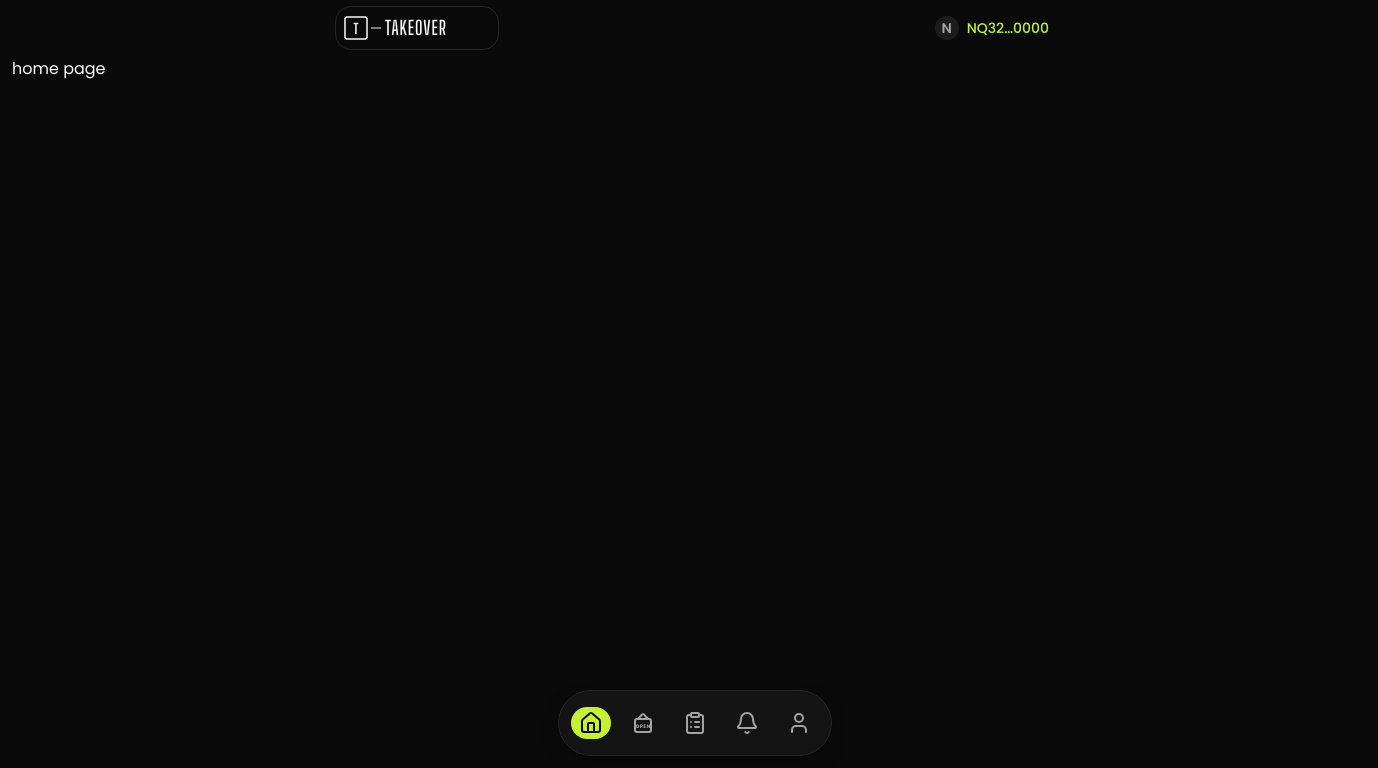
Test: pill bottom nav › tapping an item navigates
Click the link named "Claims" at (695, 723), box [683, 711, 707, 735]
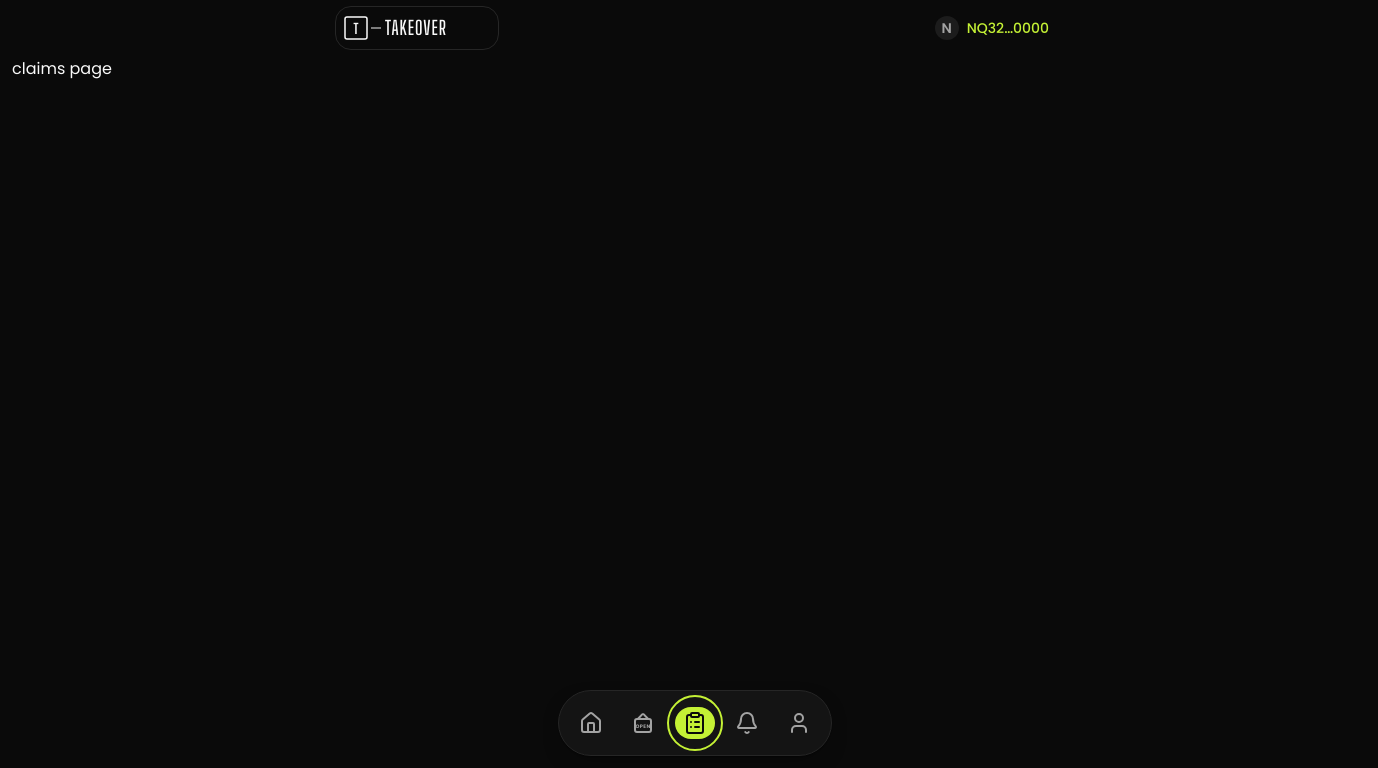
Expected: the text "claims page" is shown, [12, 57, 112, 80]
